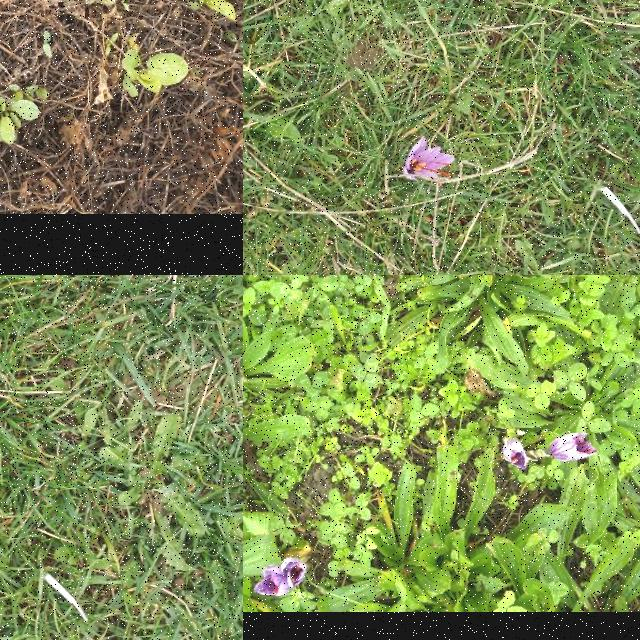flower: (404, 136, 456, 182), (546, 432, 598, 462), (254, 565, 292, 597), (282, 558, 308, 588), (502, 441, 528, 469)
